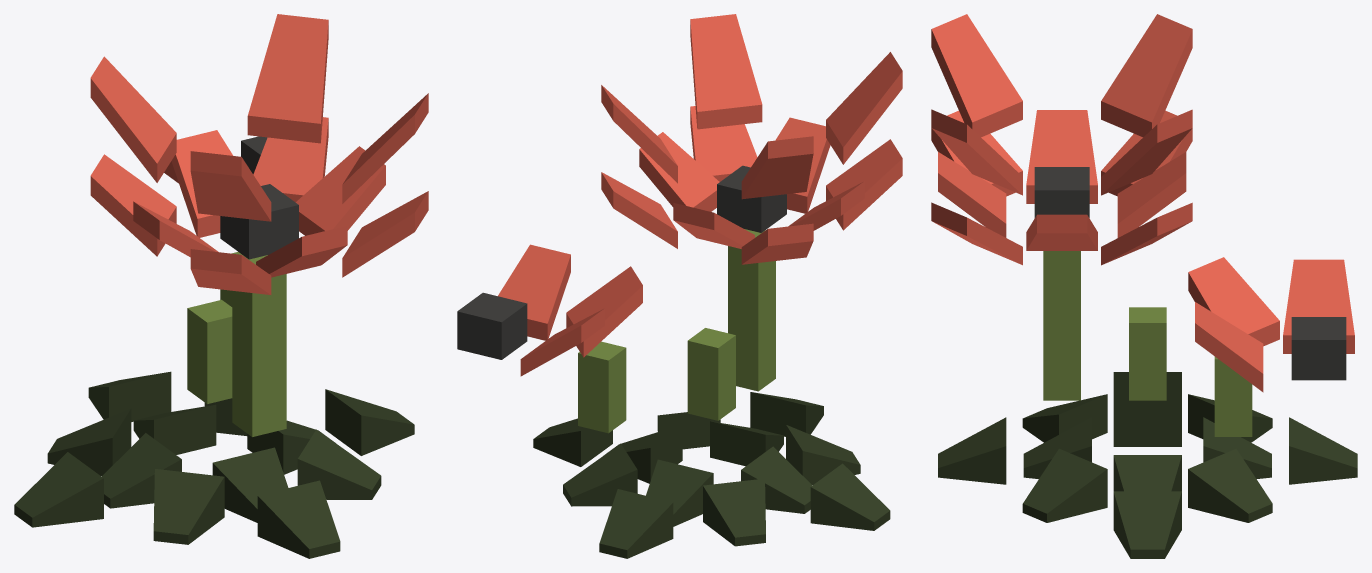
File: flower_red_cluster.glb
3 views of the same model, side by side, from view 1: azimuth 30°, elevation 25°; view 2: azimuth 150°, elevation 25°; view 3: azimuth 270°, elevation 25° (orthographic). The views are drawn at different scales.
Visible parts, largest first — view 1: flower_red_cluster; view 2: flower_red_cluster; view 3: flower_red_cluster.
Boxes of the visible parts, x1,y1,x2,y2 form: flower_red_cluster: [14, 14, 428, 558]; flower_red_cluster: [457, 14, 902, 558]; flower_red_cluster: [931, 14, 1357, 558].
Size of the model in its own units: 0.49 by 0.517 by 0.4976.
1 material, 1 textured.
